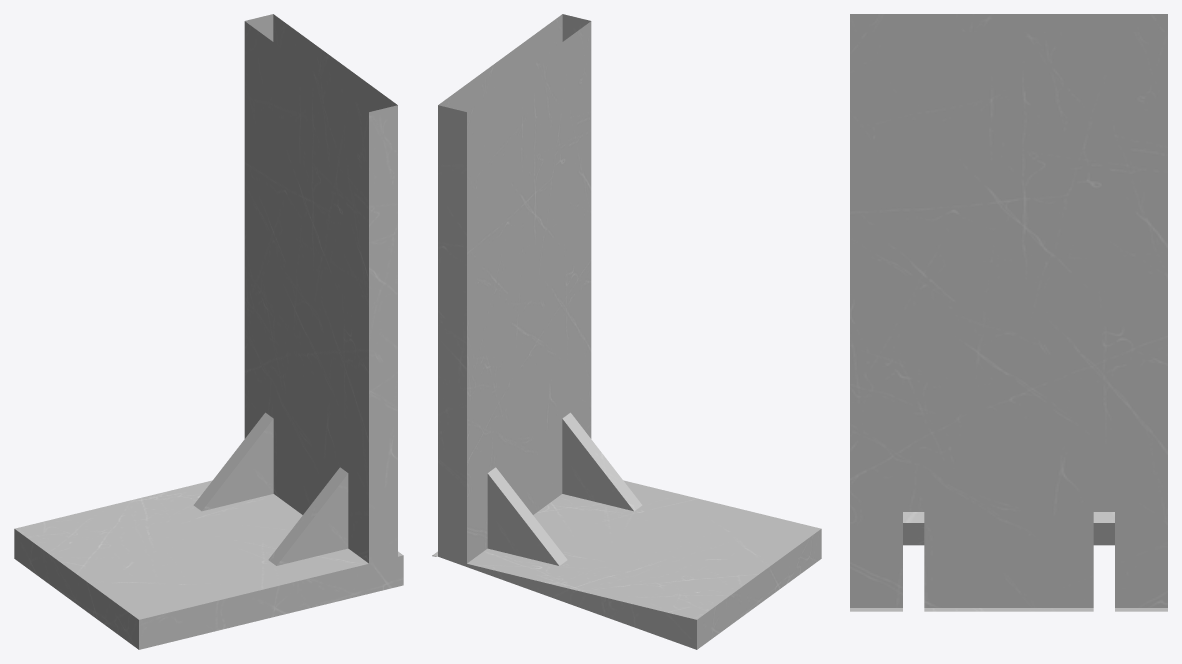
Rendered from TightenerStation_Cube15.glb.
The picture shows the model from 3 angles, left to right: view 1: azimuth 30°, elevation 25°; view 2: azimuth 150°, elevation 25°; view 3: azimuth 270°, elevation 25°; orthographic projection. The views are drawn at different scales.
Visible parts, largest first — view 1: color-2.017; view 2: color-2.017; view 3: color-2.017.
Boxes of the visible parts, x1,y1,x2,y2 form: color-2.017: [14, 14, 403, 649]; color-2.017: [432, 14, 821, 649]; color-2.017: [850, 14, 1167, 611].
Size of the model in its own units: 0.1839 by 0.32 by 0.15.
1 material, 1 textured.
